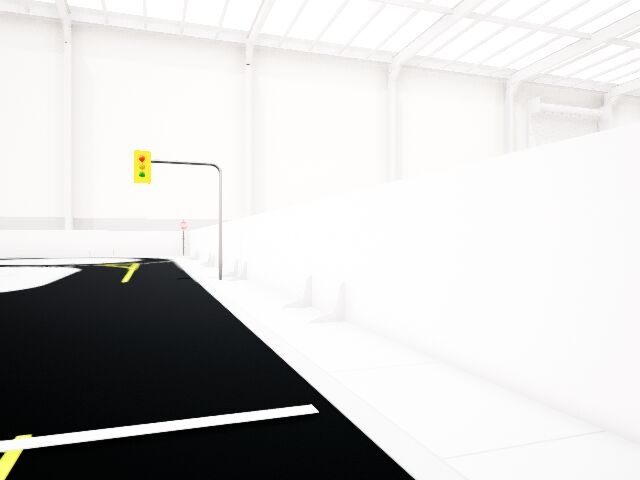red: (134, 150, 151, 183)
